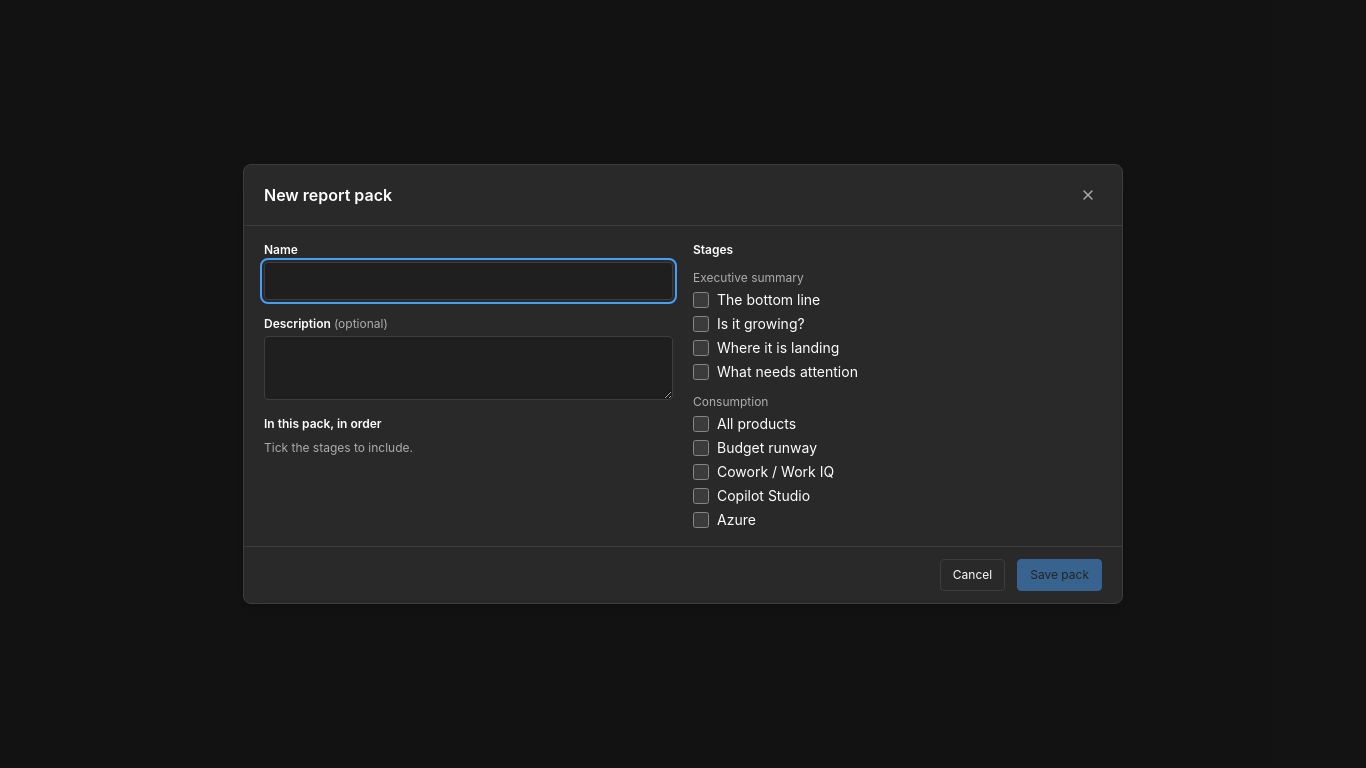
Test case: ReportPackEditor › says why a save failed and keeps the dialog open
This screenshot has width=1366, height=768.
Type "Pack" into the field labelled "Name".
click(468, 281); type("Pack")  # box [264,262,673,300]
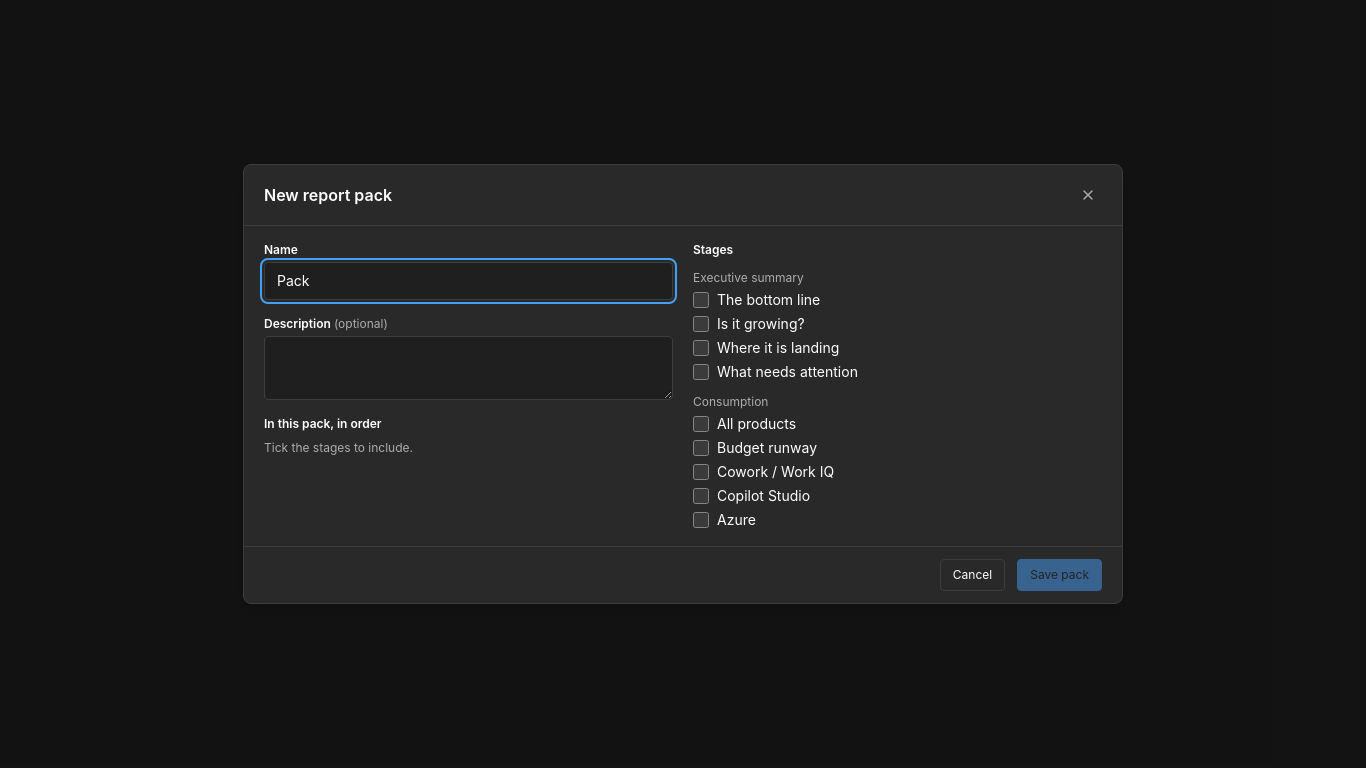
Click the checkbox labelled "The bottom line".
click(701, 300)  # box [693,292,709,308]
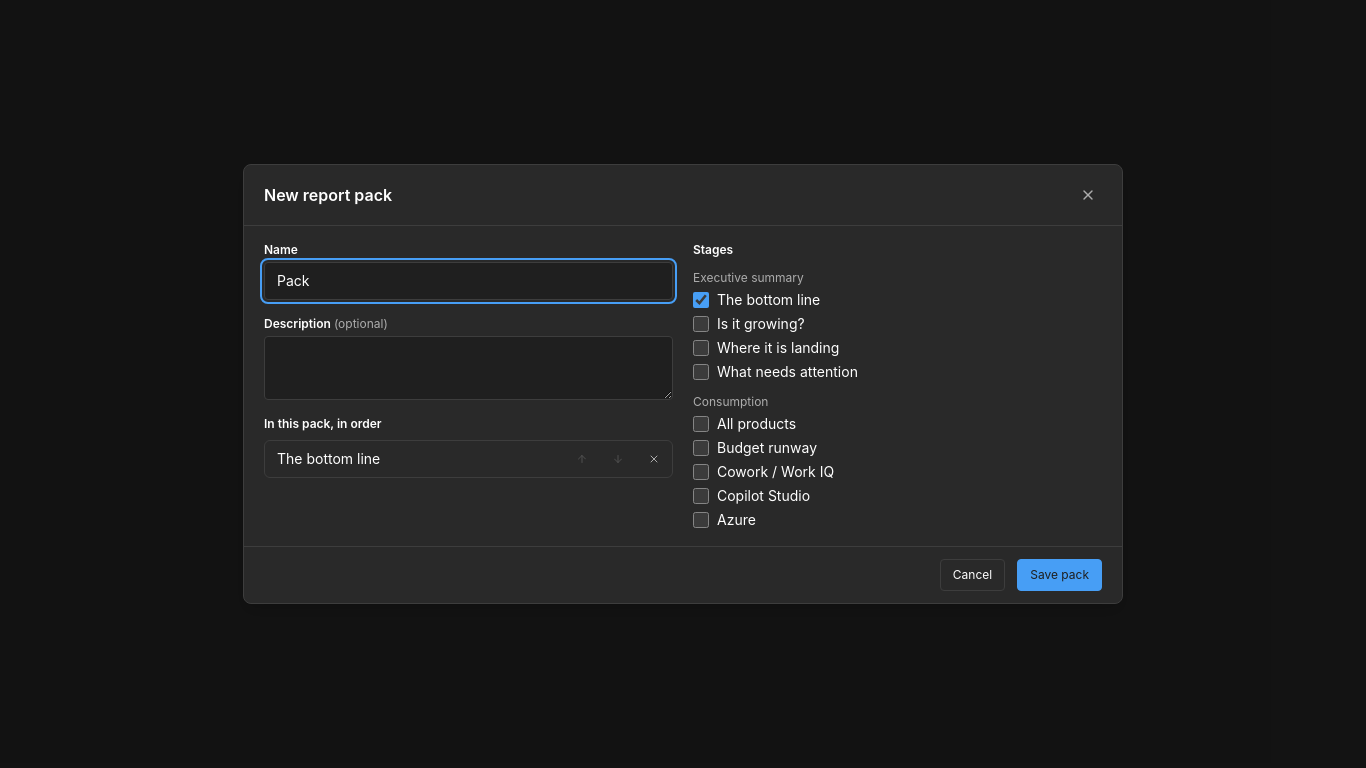
Click the button "Save pack".
click(1060, 575)  # box [1017,559,1102,591]
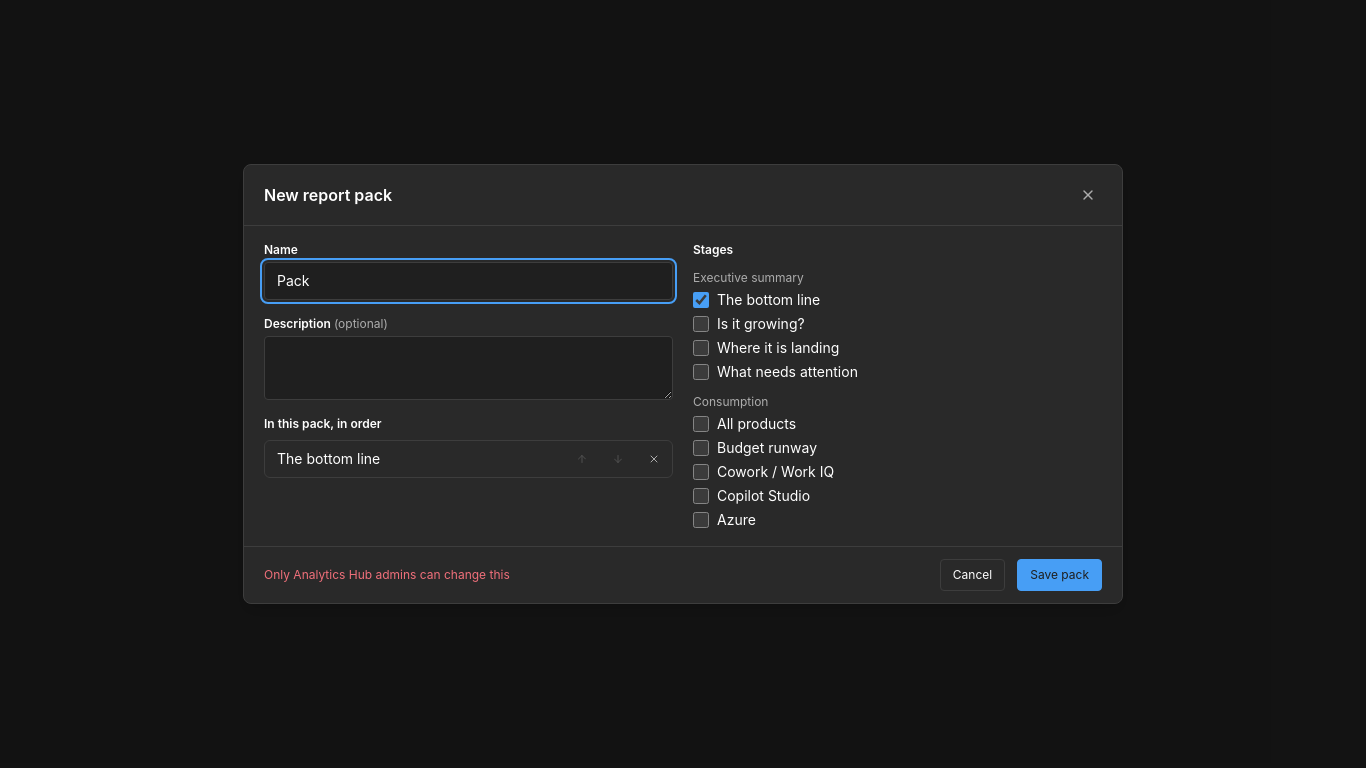
Expected: the dialog is shown, [243,164,1123,604]
Now the message reads "Only Analytics Hub admins can change this", box [264,567,510,582]
